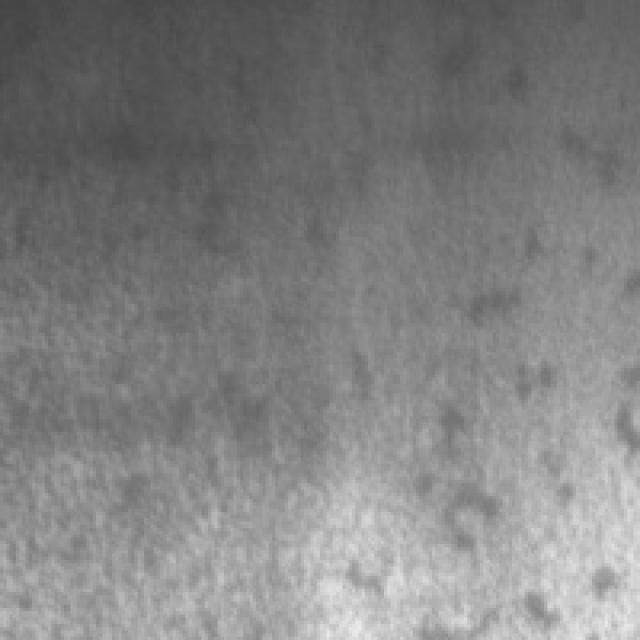pitted_surface: (6, 48, 464, 637)
